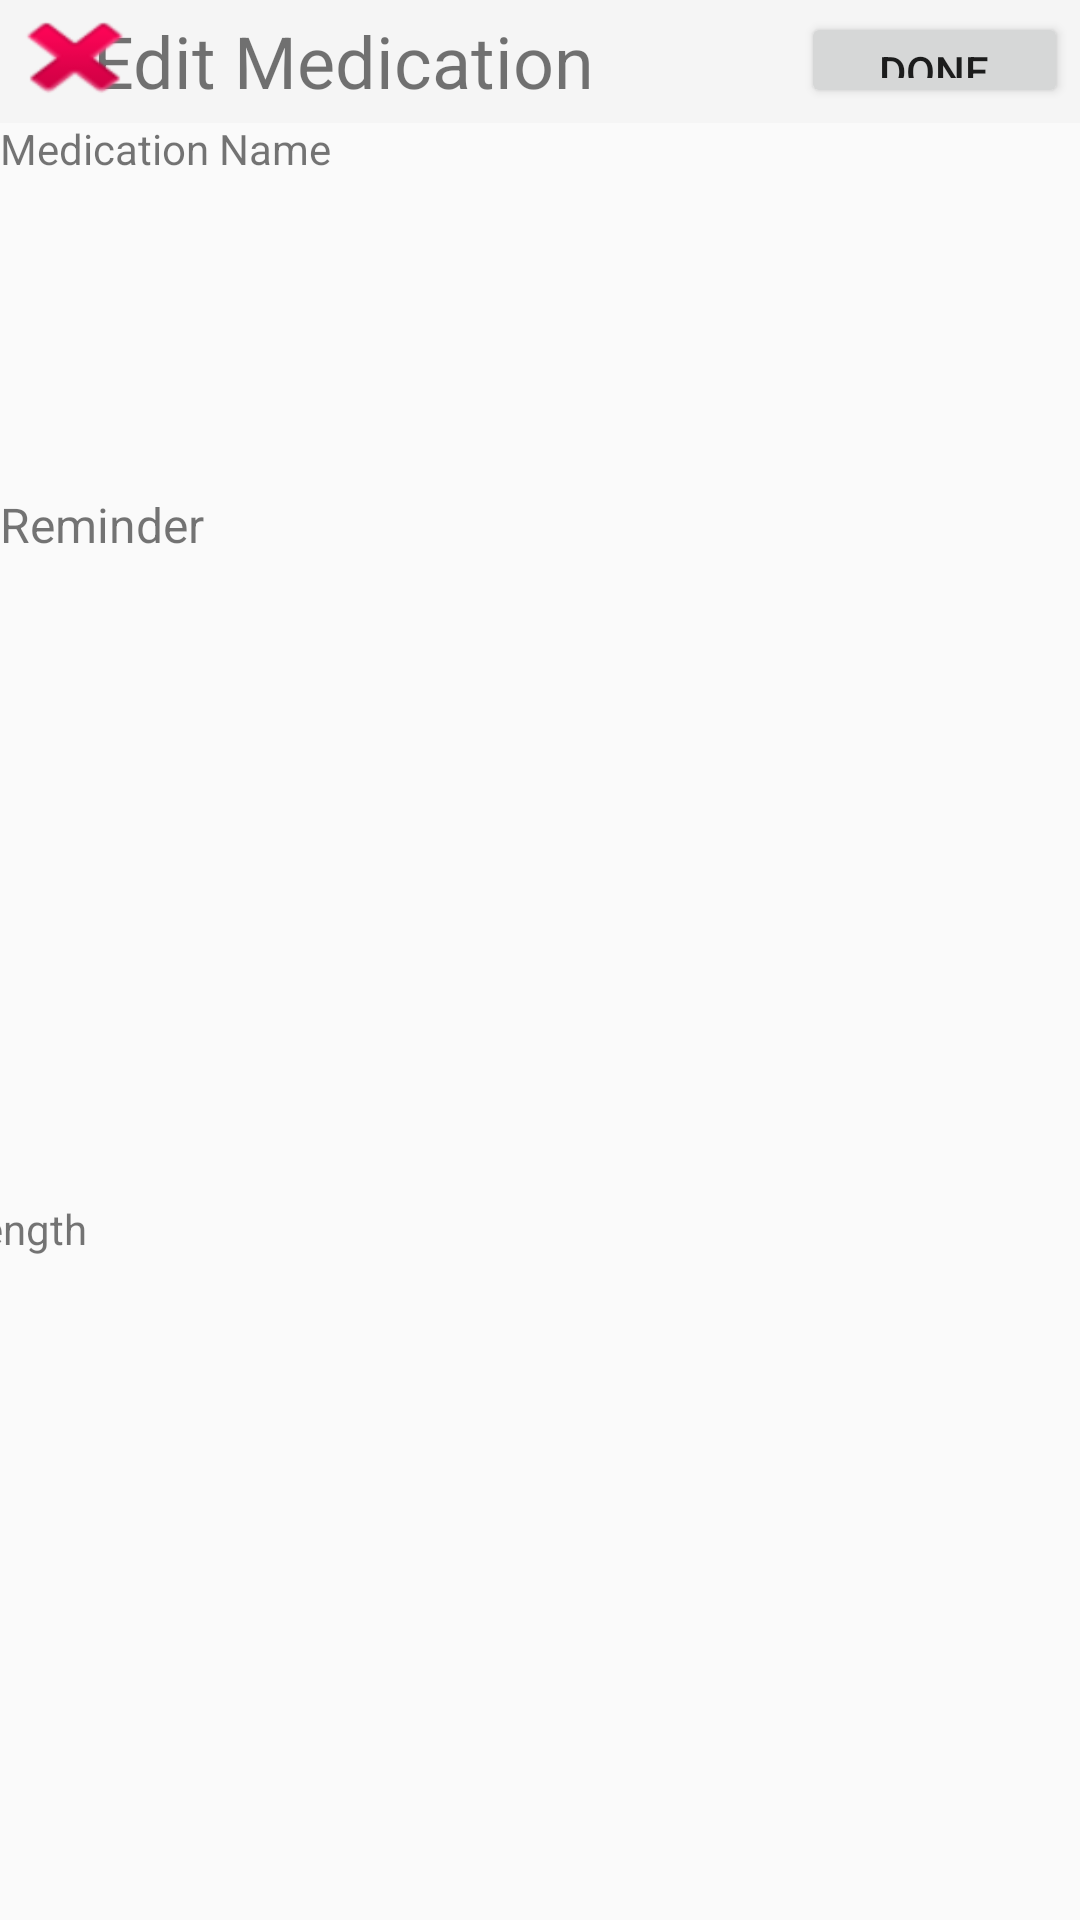

Named icons in this screenshot (1080*1920) and their bounding boxes, (x1, y1, x2, y2):
delete: (27, 22, 132, 93)
